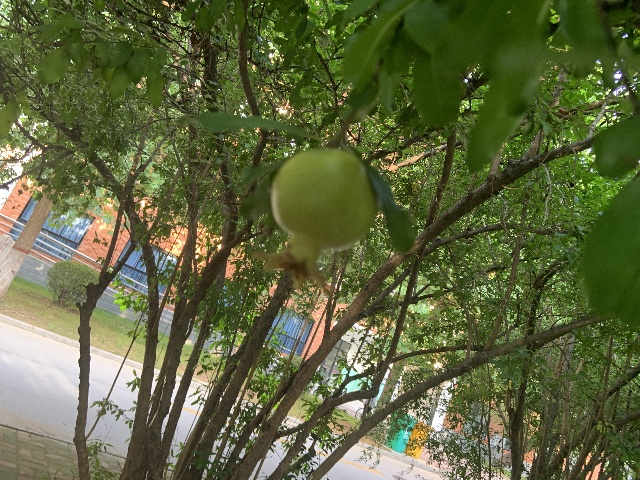mid-growth: (252, 147, 376, 290)
